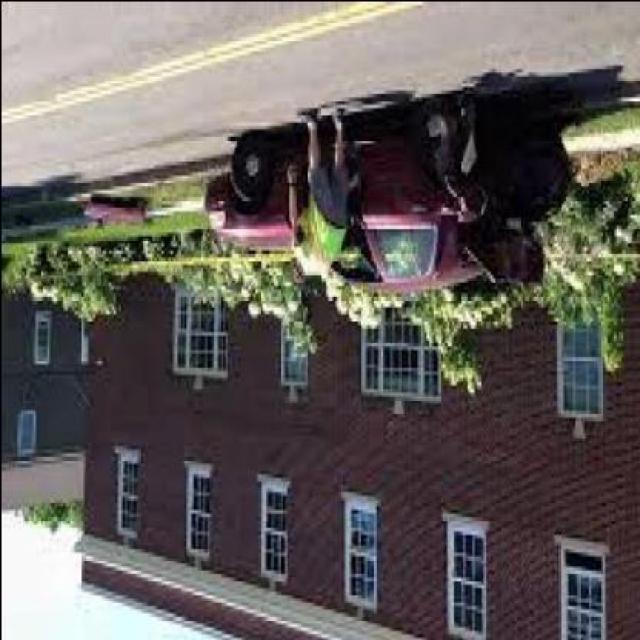damage: (439, 99, 569, 276)
